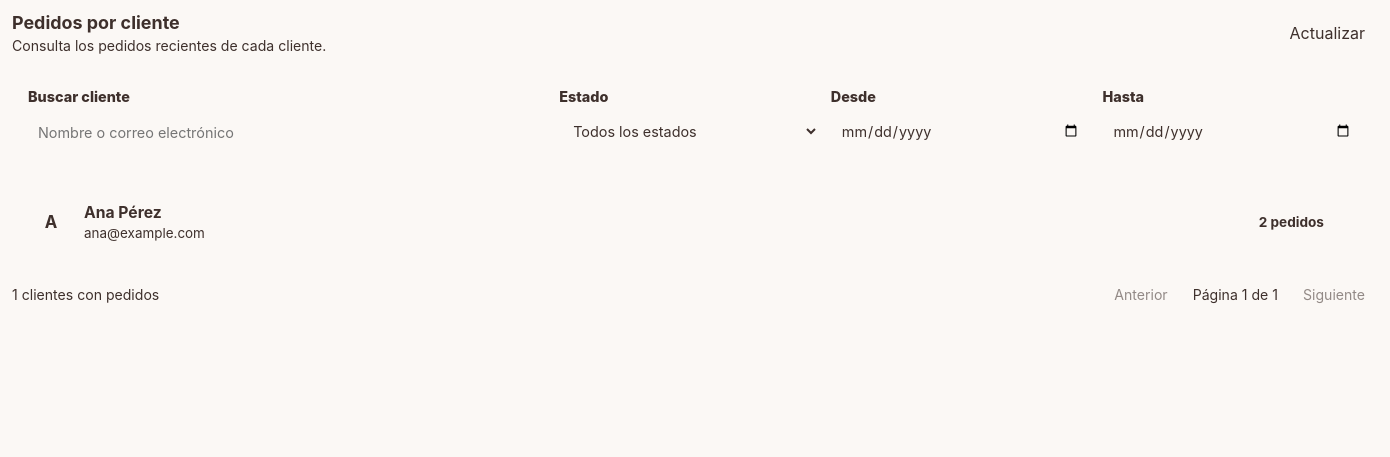
Test case: CustomerOrders › muestra varios pedidos y utiliza la etiqueta plural
Expected: the text "2 pedidos" is shown, x1=1259 y1=214 x2=1324 y2=230
Click the button "A Ana Pérez ana@example.com 2 pedidos" at (123, 212), box x1=12 y1=185 x2=1378 y2=259
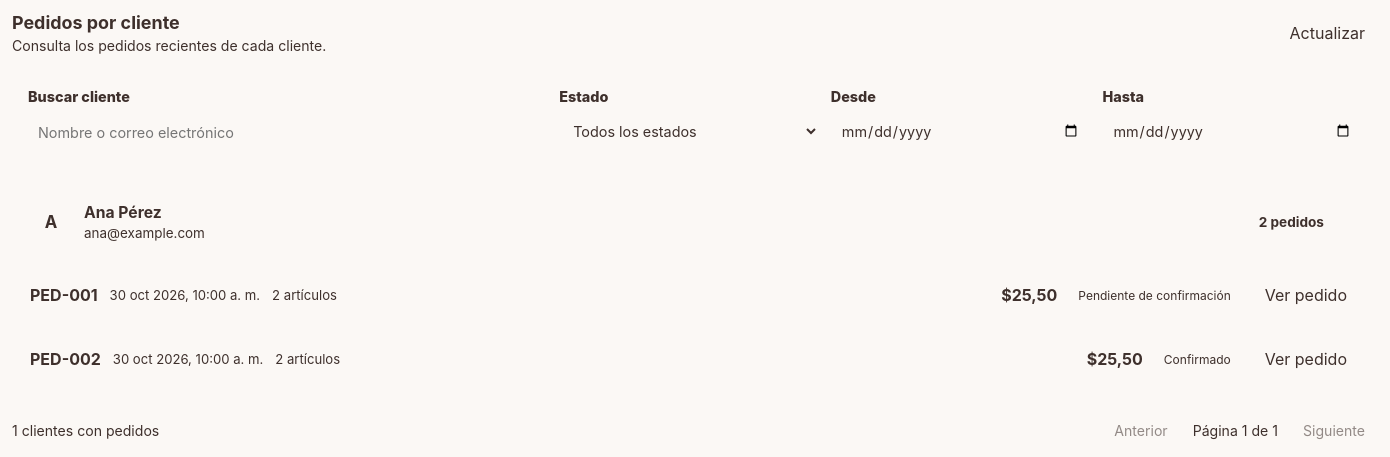
Expected: the text "PED-001" is shown, x1=30 y1=285 x2=98 y2=305
Expected: the text "PED-002" is shown, x1=30 y1=349 x2=101 y2=369
